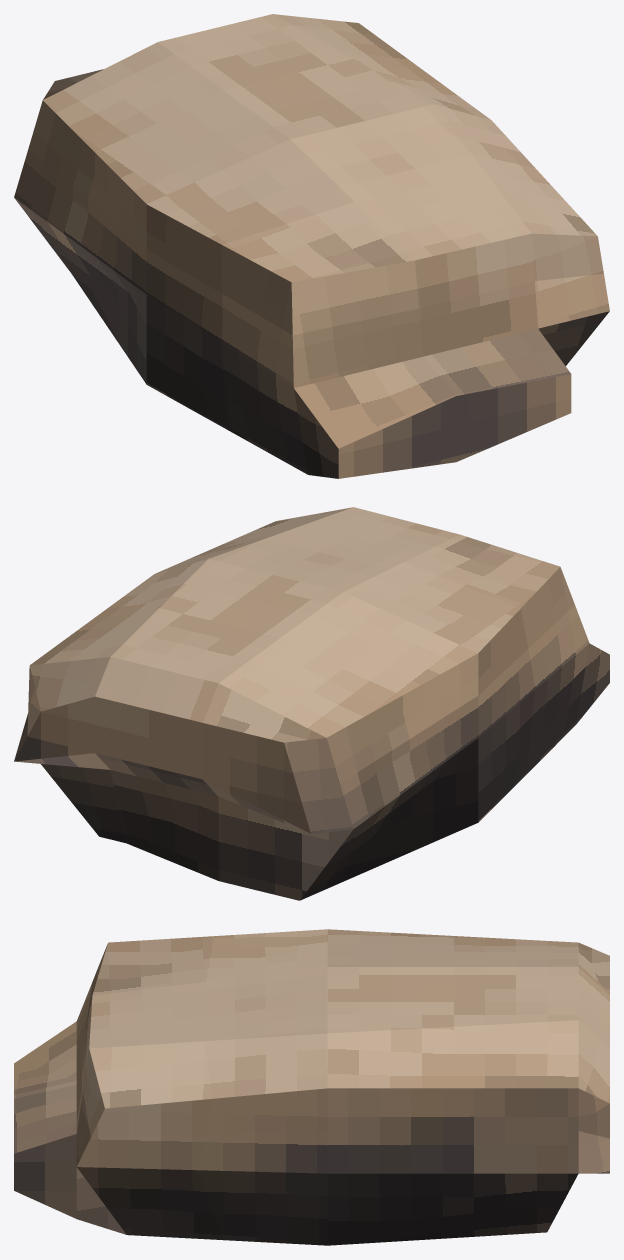
File: Rock1.gltf
The picture shows the model from 3 angles, top to bottom: view 1: azimuth 30°, elevation 25°; view 2: azimuth 150°, elevation 25°; view 3: azimuth 270°, elevation 25°; orthographic projection. The views are drawn at different scales.
Visible parts, largest first — view 1: Rock; view 2: Rock; view 3: Rock.
Part boxes in pixels (box(x1,y1,x2,y2)): Rock: box(14, 14, 609, 478); Rock: box(14, 507, 609, 900); Rock: box(14, 929, 609, 1245).
Size of the model in its own units: 0.75 by 0.4375 by 1.19.
Materials: 1 (1 with a texture image).
